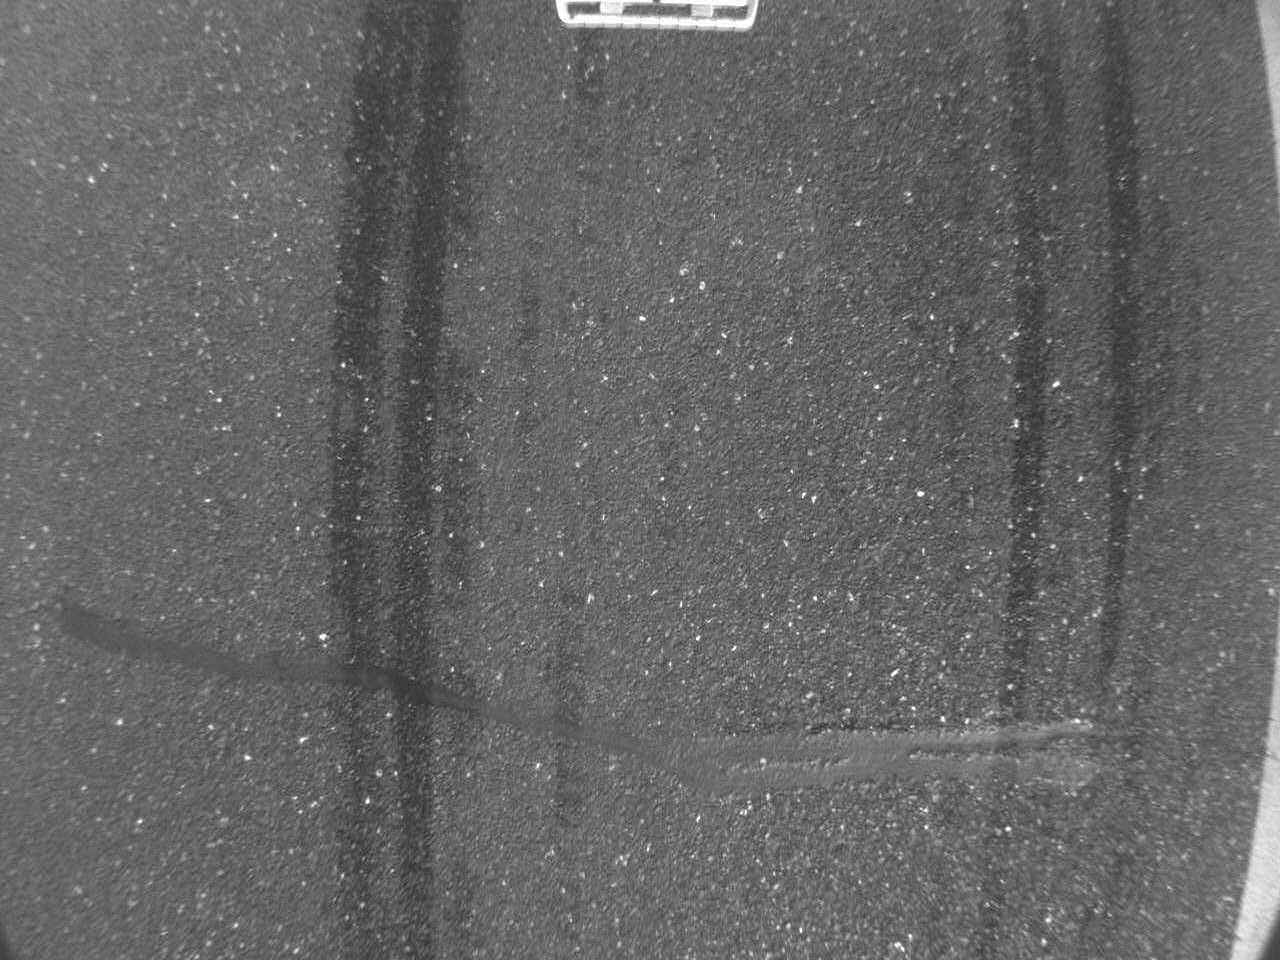sealed: (60, 602, 1113, 798)
